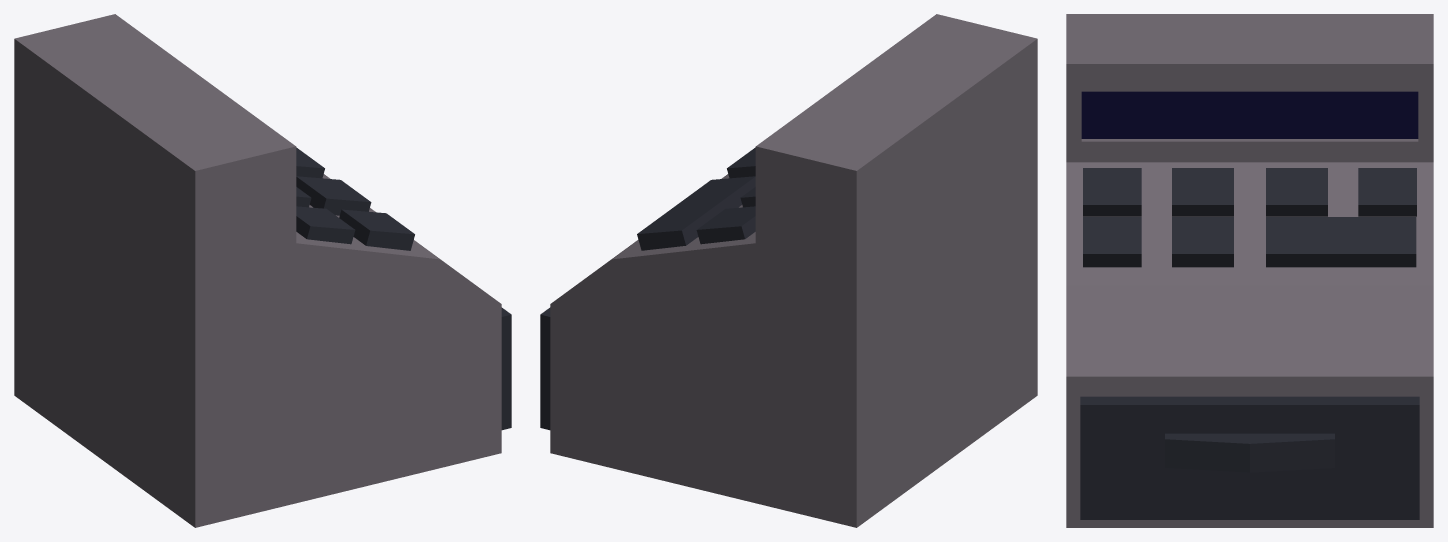
File: cashyreggy (1).fbx
The picture shows the model from 3 angles, left to right: view 1: azimuth 30°, elevation 25°; view 2: azimuth 150°, elevation 25°; view 3: azimuth 270°, elevation 25°; orthographic projection.
Visible parts, largest first — view 1: Cube, Cube.004, Cube.003, Cube.001; view 2: Cube, Cube.004, Cube.003, Cube.001; view 3: Cube, Cube.001, Cube.002, Cube.004, Cube.003.
Part boxes in pixels (x1=…): Cube: x1=14, y1=14, x2=501, y2=527; Cube.004: x1=296, y1=147, x2=414, y2=250; Cube.003: x1=296, y1=187, x2=355, y2=244; Cube.001: x1=501, y1=307, x2=511, y2=430; Cube: x1=550, y1=14, x2=1037, y2=527; Cube.004: x1=637, y1=147, x2=755, y2=250; Cube.003: x1=696, y1=187, x2=755, y2=244; Cube.001: x1=540, y1=307, x2=550, y2=430; Cube: x1=1066, y1=14, x2=1433, y2=527; Cube.001: x1=1080, y1=396, x2=1419, y2=519; Cube.002: x1=1081, y1=91, x2=1418, y2=138; Cube.004: x1=1083, y1=217, x2=1416, y2=267; Cube.003: x1=1083, y1=168, x2=1416, y2=216.
Size of the model in its own units: 180 by 178 by 164.
